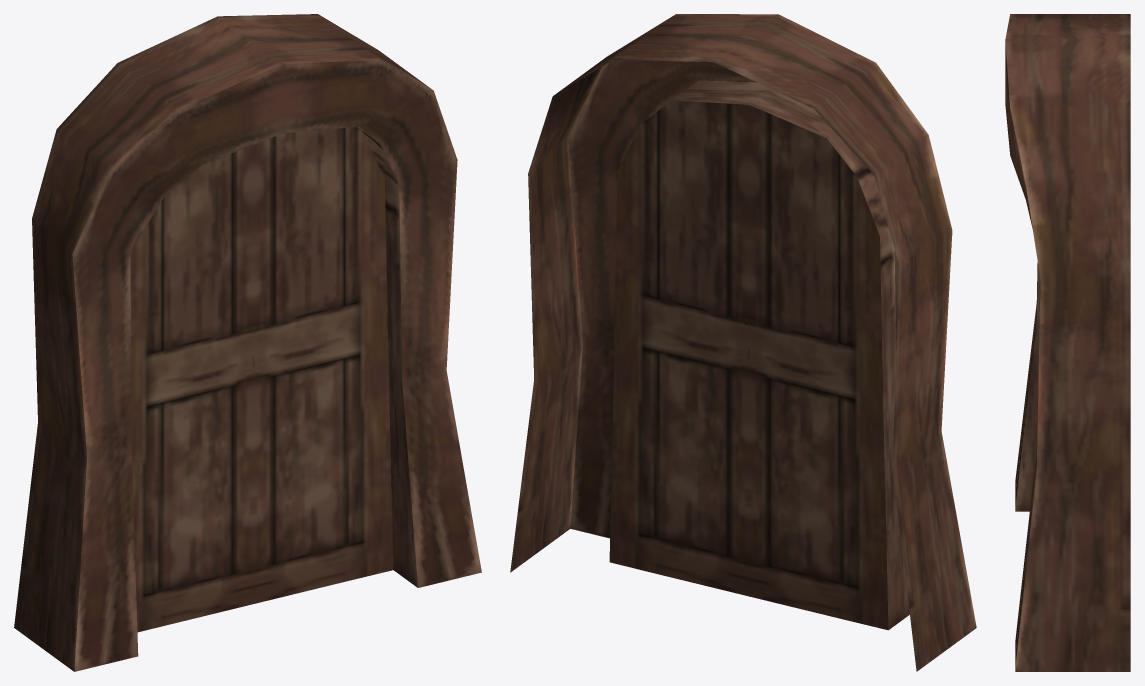
File: door_rounded_LOD.fbx
3 renders of one model, left to right at view 1: azimuth 30°, elevation 25°; view 2: azimuth 150°, elevation 25°; view 3: azimuth 270°, elevation 25°, orthographic. The views are drawn at different scales.
Parts seen in each view (by area): view 1: porta_Rounded_LOD0; view 2: porta_Rounded_LOD0; view 3: porta_Rounded_LOD0.
Boxes of the visible parts, box(x1,y1,x2,y2) form: porta_Rounded_LOD0: box(14, 14, 481, 671); porta_Rounded_LOD0: box(510, 14, 976, 671); porta_Rounded_LOD0: box(1005, 14, 1130, 671).
Size of what is drawn, in the model's own units: 92.8 by 122 by 25.8.
